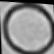no answer: (2, 1, 54, 54)
